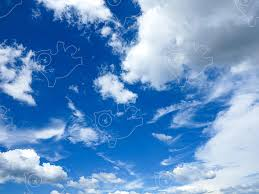sky: (3, 2, 259, 193)
